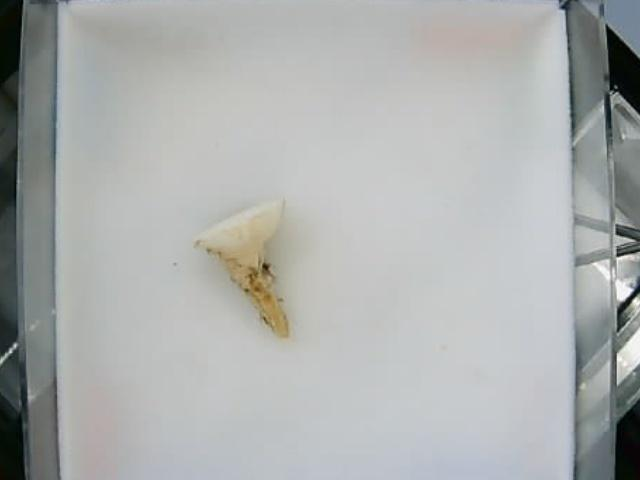Mooli: (194, 195, 290, 339)
